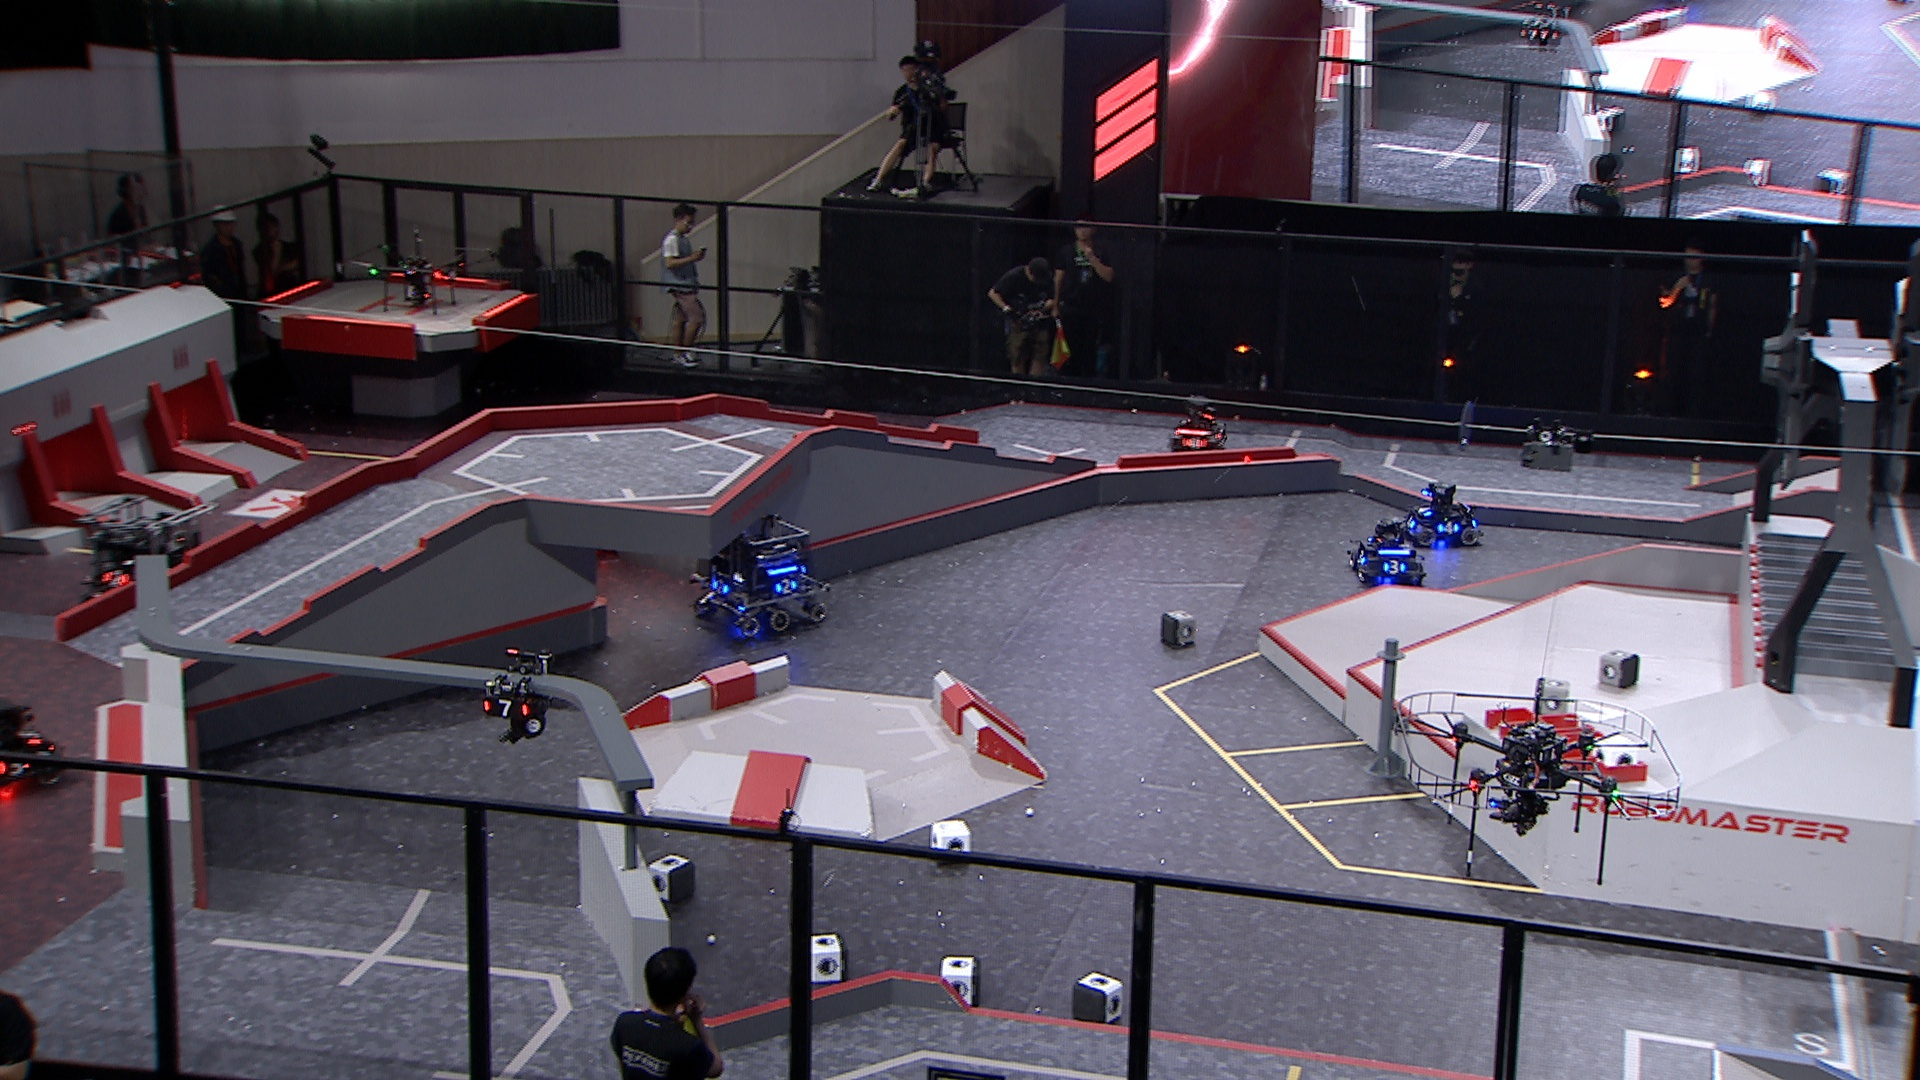armor: (484, 694, 531, 717), (103, 567, 131, 589), (709, 576, 731, 597), (16, 728, 44, 744), (1183, 436, 1207, 452), (775, 579, 798, 595), (1379, 560, 1404, 574), (1436, 524, 1461, 535), (1415, 504, 1433, 520), (1352, 547, 1366, 566), (1404, 514, 1419, 531), (1215, 431, 1226, 442)
car: (688, 513, 828, 638), (73, 491, 214, 613), (1346, 513, 1425, 591), (1400, 480, 1485, 553), (1164, 394, 1232, 455)
ignore: (1518, 3, 1565, 44)
watcher: (476, 646, 560, 742)
